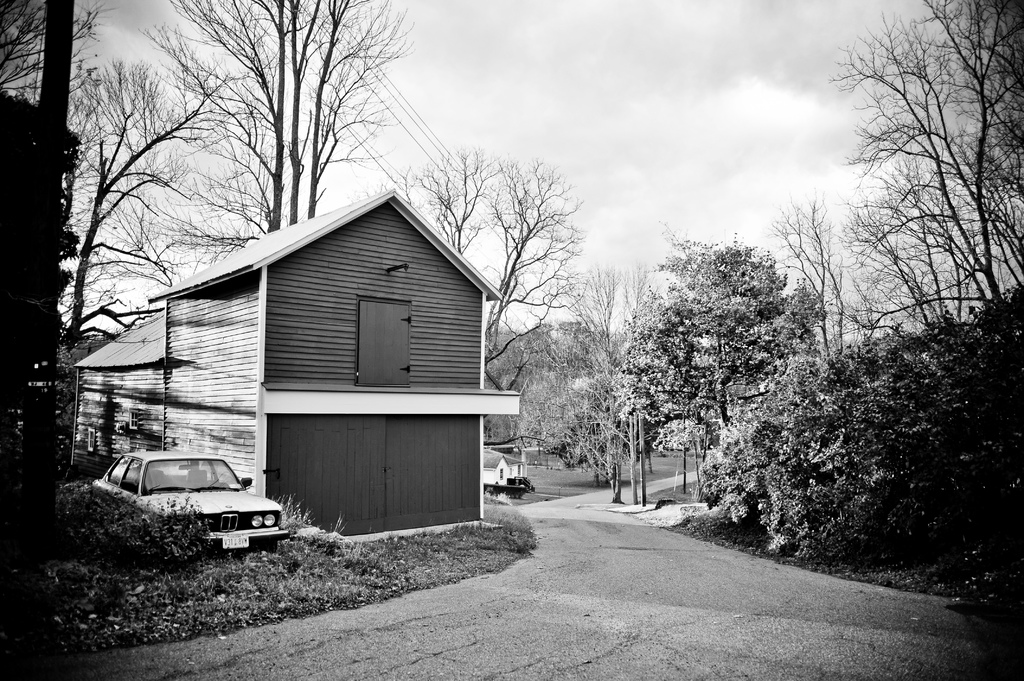cars: (100, 448, 281, 550)
